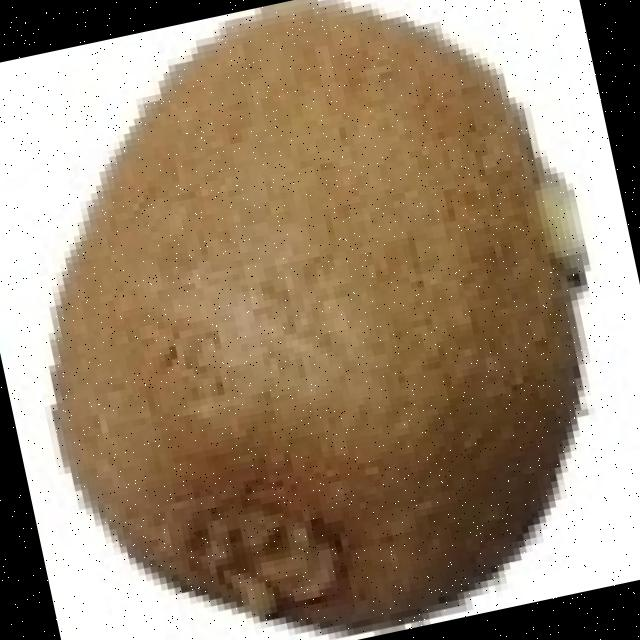kiwi: (44, 0, 568, 623)
